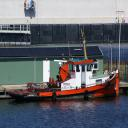tugboat: (9, 22, 121, 105)
